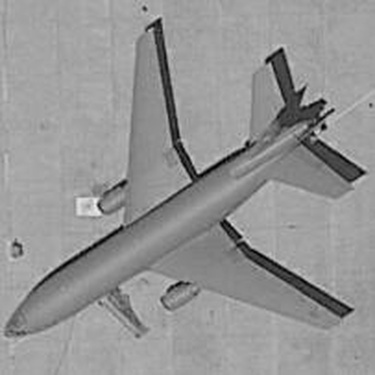airplane: (1, 17, 362, 353)
